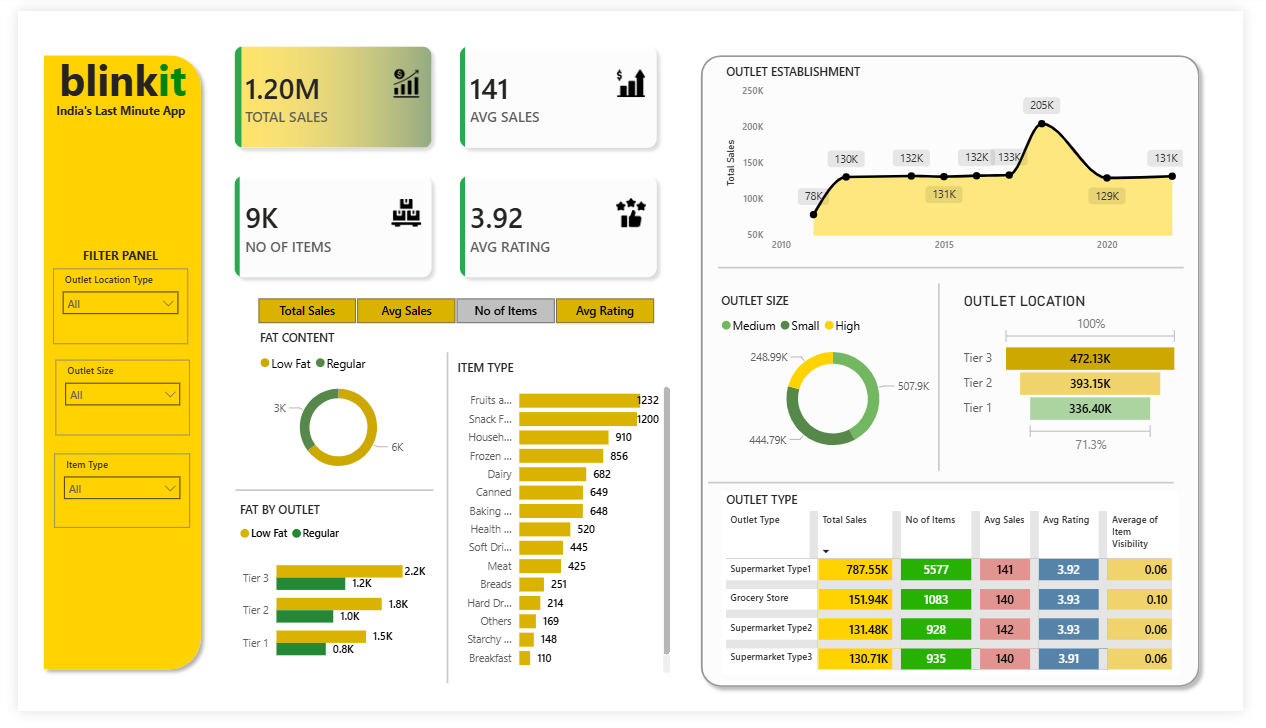

This screenshot's page, from the dashboard's own definition file:
{"tool":"powerbi","page":{"name":"Page 1","canvas":[1400,800],"ordinal":0},"visuals":[{"type":"shape","box":[20,42,198,720],"z":0},{"type":"textbox","box":[510.3,12,151.6,55.5],"z":1000},{"type":"textbox","box":[37.5,40.5,165.1,75],"z":2000},{"type":"textbox","box":[37.5,100.6,160.6,28.5],"z":3000},{"type":"cardVisual","fields":{"Data":["BlinkIT Grocery Data.Total Sales","BlinkIT Grocery Data.Avg Sales","BlinkIT Grocery Data.No of Items","BlinkIT Grocery Data.Avg Rating"]},"box":[218,12,540,322],"z":4000},{"type":"shape","box":[772,42,588,740],"z":5000},{"type":"donutChart","title":" FAT CONTENT","fields":{"Y":["BlinkIT Grocery Data.No of Items"],"Category":["BlinkIT Grocery Data.Item Fat Content"]},"box":[272,364,190,176],"z":6000},{"type":"slicer","fields":{"Values":["Metrics.Metrics"]},"box":[248,322,502,42],"z":7000},{"type":"clusteredBarChart","title":"FAT BY OUTLET","fields":{"Y":["BlinkIT Grocery Data.No of Items"],"Category":["BlinkIT Grocery Data.Outlet Location Type"],"Series":["BlinkIT Grocery Data.Item Fat Content"]},"box":[248,560,222,198],"z":8000},{"type":"shape","box":[248,538,226,18],"z":9000},{"type":"shape","box":[470,390,41.7,378.3],"z":10000},{"type":"barChart","title":" ITEM TYPE","fields":{"Y":["BlinkIT Grocery Data.No of Items"],"Category":["BlinkIT Grocery Data.Item Type"]},"box":[496.7,398.3,253.3,363.3],"z":11000},{"type":"lineChart","title":"OUTLET ESTABLISHMENT","fields":{"Category":["BlinkIT Grocery Data.Outlet Establishment Year"],"Y":["BlinkIT Grocery Data.Total Sales"]},"box":[804,60,532,224],"z":12000},{"type":"shape","box":[788,530,532,18],"z":13000},{"type":"donutChart","title":"OUTLET SIZE","fields":{"Category":["BlinkIT Grocery Data.Outlet Size"],"Y":["BlinkIT Grocery Data.Total Sales"]},"box":[798,322,266,196],"z":14000},{"type":"shape","box":[1042,312,22,214],"z":15000},{"type":"funnel","title":"OUTLET LOCATION","fields":{"Category":["BlinkIT Grocery Data.Outlet Location Type"],"Y":["Sum(BlinkIT Grocery Data.Sales)"]},"box":[1076,322,256,190],"z":16000},{"type":"shape","box":[800,284,532,18],"z":17000},{"type":"pivotTable","title":"OUTLET TYPE","fields":{"Rows":["BlinkIT Grocery Data.Outlet Type"],"Values":["BlinkIT Grocery Data.Total Sales","BlinkIT Grocery Data.No of Items","BlinkIT Grocery Data.Avg Sales","BlinkIT Grocery Data.Avg Rating","Avg(BlinkIT Grocery Data.Item Visibility)"]},"box":[804,548,522,210],"z":18000},{"type":"slicer","fields":{"Values":["BlinkIT Grocery Data.Outlet Location Type"]},"box":[40,294,154,86],"z":18001},{"type":"slicer","fields":{"Values":["BlinkIT Grocery Data.Outlet Size"]},"box":[43.3,398.3,153.3,86.7],"z":18002},{"type":"slicer","fields":{"Values":["BlinkIT Grocery Data.Item Type"]},"box":[41.7,505,155,85],"z":18003},{"type":"textbox","box":[46.7,265,140,28.3],"z":18004}]}

Visuals, with their boxes in screenshot pixels (x1, y1, x2, y2), scaled from the page's 1400x800 canvas onto the 1266x728 screenshot:
shape: x1=18 y1=38 x2=197 y2=693
textbox: x1=461 y1=11 x2=599 y2=61
textbox: x1=34 y1=37 x2=183 y2=105
textbox: x1=34 y1=92 x2=179 y2=117
cardVisual - BlinkIT Grocery Data.Total Sales x BlinkIT Grocery Data.Avg Sales: x1=197 y1=11 x2=685 y2=304
shape: x1=698 y1=38 x2=1230 y2=712
" FAT CONTENT" donutChart: x1=246 y1=331 x2=418 y2=491
slicer - Metrics.Metrics: x1=224 y1=293 x2=678 y2=331
"FAT BY OUTLET" clusteredBarChart: x1=224 y1=510 x2=425 y2=690
shape: x1=224 y1=490 x2=429 y2=506
shape: x1=425 y1=355 x2=463 y2=699
" ITEM TYPE" barChart: x1=449 y1=362 x2=678 y2=693
"OUTLET ESTABLISHMENT" lineChart: x1=727 y1=55 x2=1208 y2=258
shape: x1=713 y1=482 x2=1194 y2=499
"OUTLET SIZE" donutChart: x1=722 y1=293 x2=962 y2=471
shape: x1=942 y1=284 x2=962 y2=479
"OUTLET LOCATION" funnel: x1=973 y1=293 x2=1205 y2=466
shape: x1=723 y1=258 x2=1205 y2=275
"OUTLET TYPE" pivotTable: x1=727 y1=499 x2=1199 y2=690
slicer - BlinkIT Grocery Data.Outlet Location Type: x1=36 y1=268 x2=175 y2=346
slicer - BlinkIT Grocery Data.Outlet Size: x1=39 y1=362 x2=178 y2=441
slicer - BlinkIT Grocery Data.Item Type: x1=38 y1=460 x2=178 y2=537
textbox: x1=42 y1=241 x2=169 y2=267
